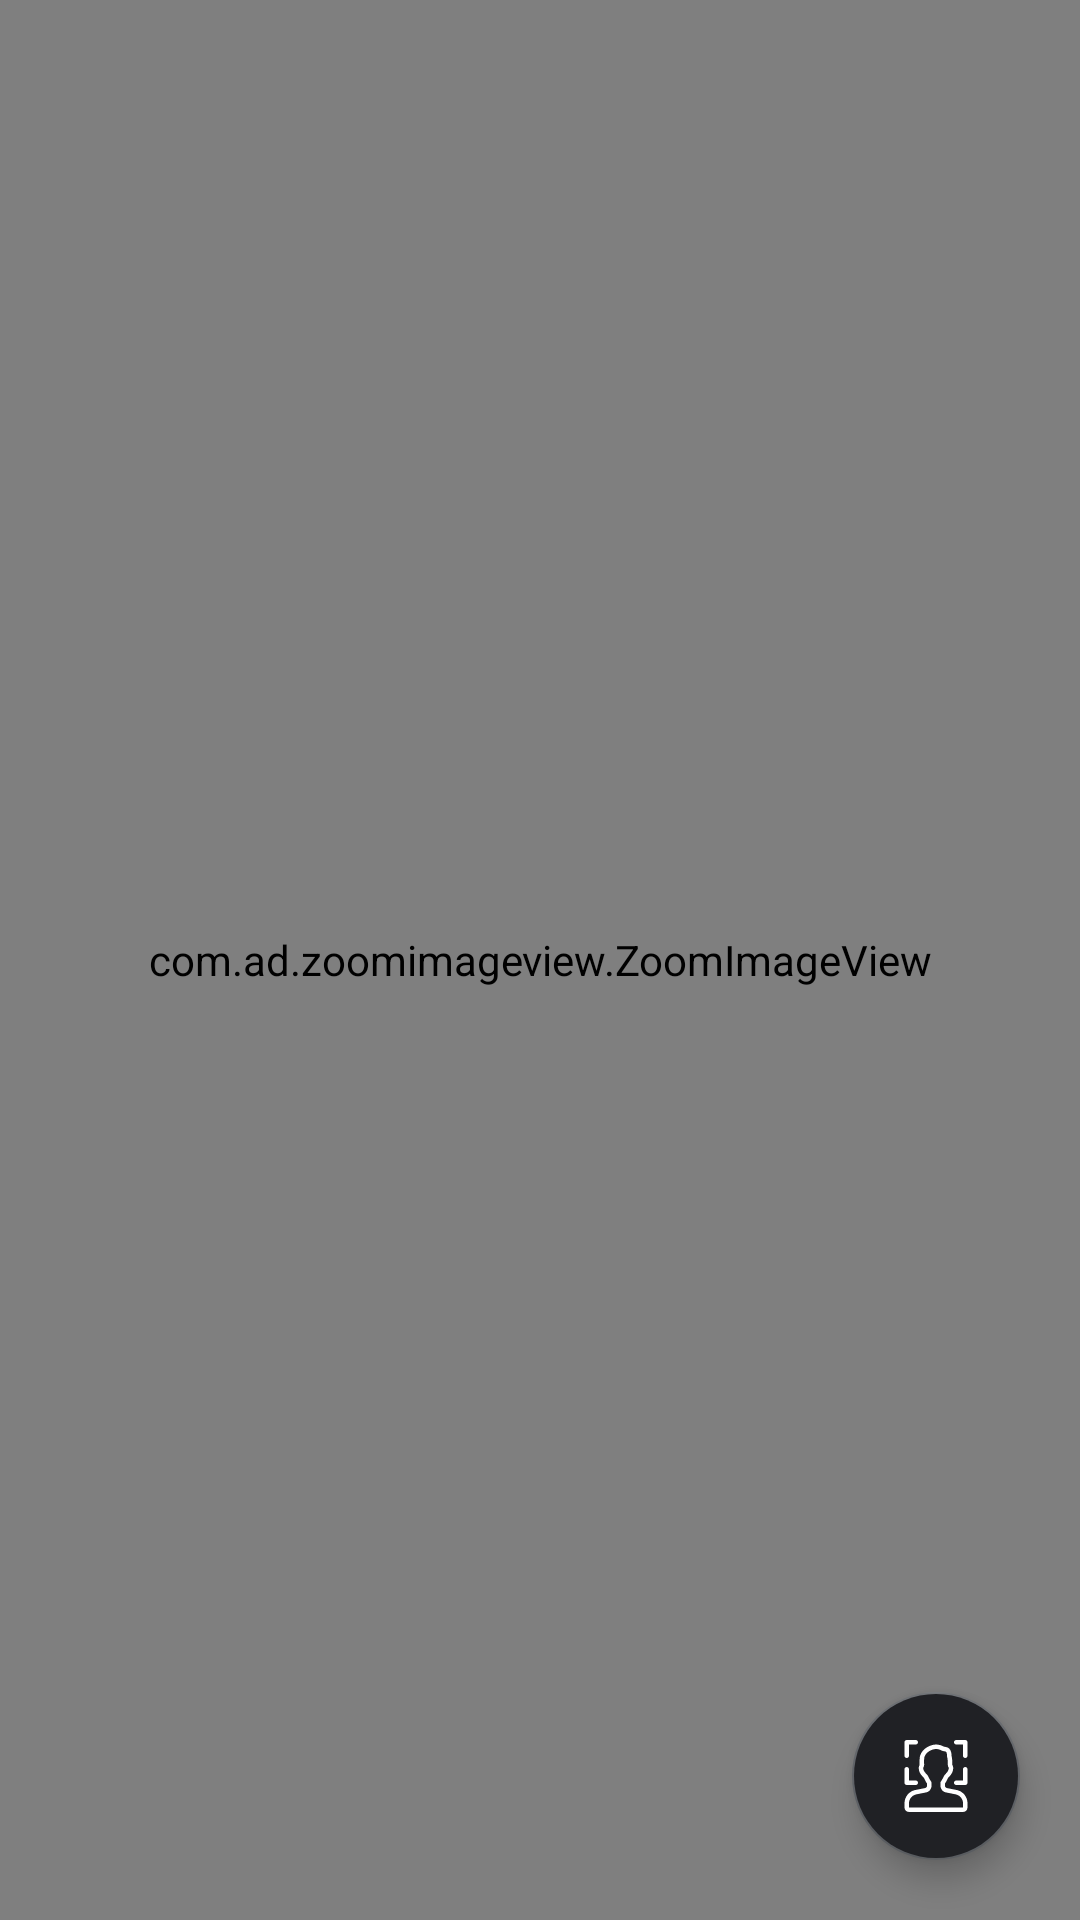

Named icons in this screenshot (1080px×1920px) and their centers, [x,y]:
scan button: [936,1777]
